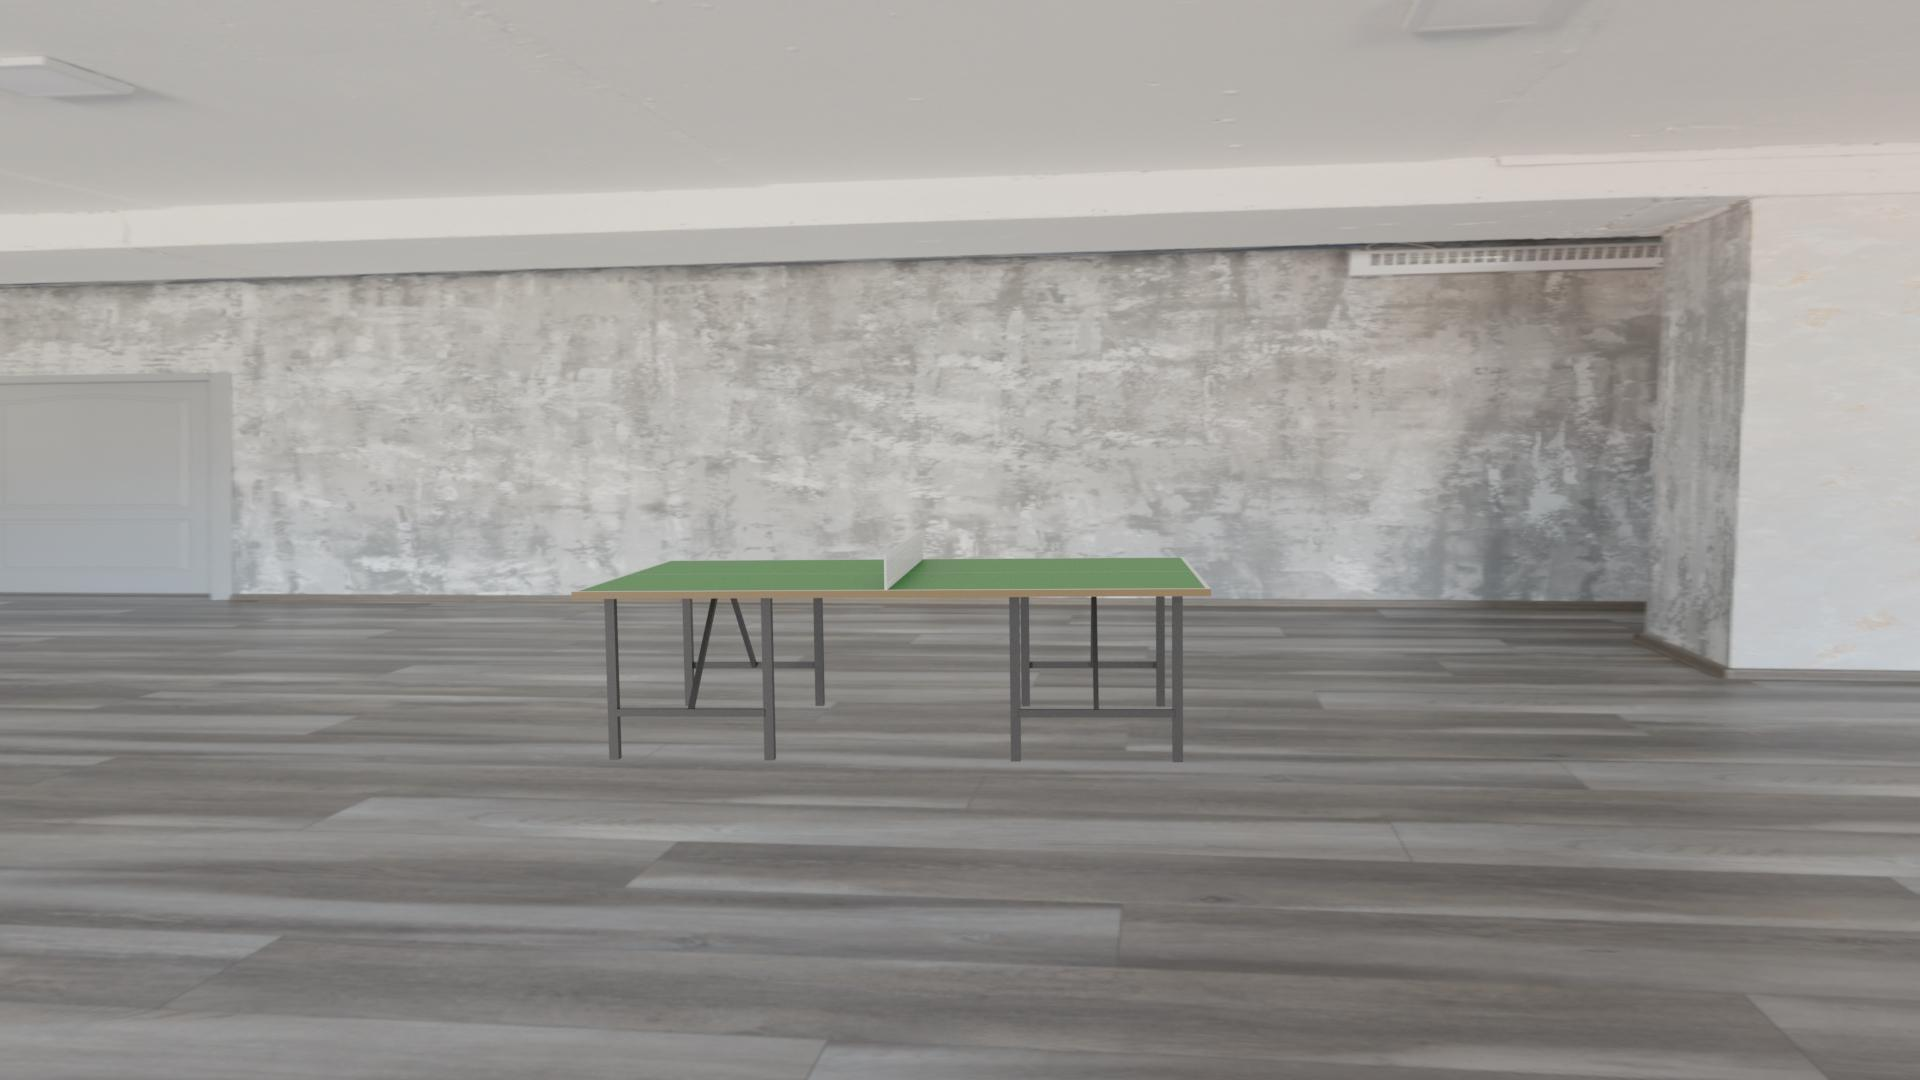table: (578, 558, 1205, 591)
